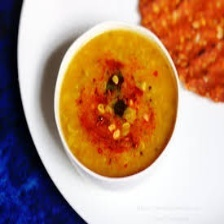dal: (58, 29, 177, 176)
